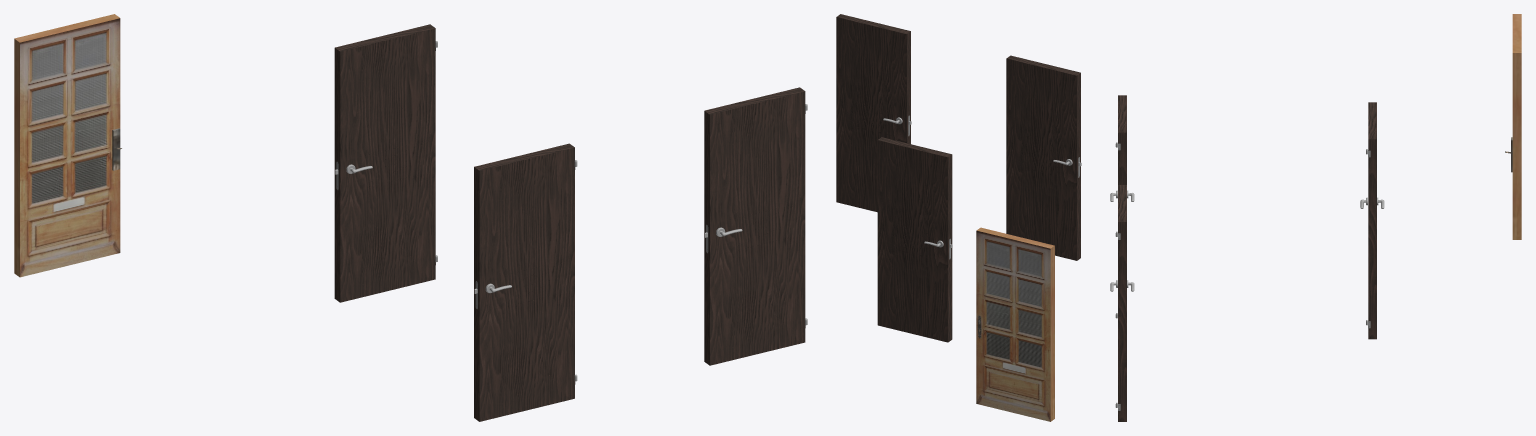
The model's file is door.glb.
3 views of the same model, side by side, from view 1: azimuth 30°, elevation 25°; view 2: azimuth 150°, elevation 25°; view 3: azimuth 270°, elevation 25° (orthographic). The views are drawn at different scales.
Visible parts, largest first — view 1: Door_base, Door_base.002, Door_base.001, Door.001; view 2: Door_base, Door.001, Door_base.001, Door_base.002; view 3: Door.001, Door_base, Door_base.002, Door_base.001.
Boxes of the visible parts, x1,y1,x2,y2 form: Door_base: [334, 24, 437, 302]; Door_base.002: [704, 87, 807, 365]; Door_base.001: [474, 143, 577, 421]; Door.001: [14, 14, 121, 277]; Door_base: [877, 137, 952, 342]; Door.001: [976, 227, 1054, 421]; Door_base.001: [1006, 55, 1081, 260]; Door_base.002: [836, 14, 911, 212]; Door.001: [1505, 14, 1521, 239]; Door_base: [1366, 102, 1378, 339]; Door_base.002: [1115, 185, 1128, 421]; Door_base.001: [1115, 95, 1128, 318].
Size of the model in its own units: 12.14 by 5.4 by 10.06.
4 materials, 4 textured.
